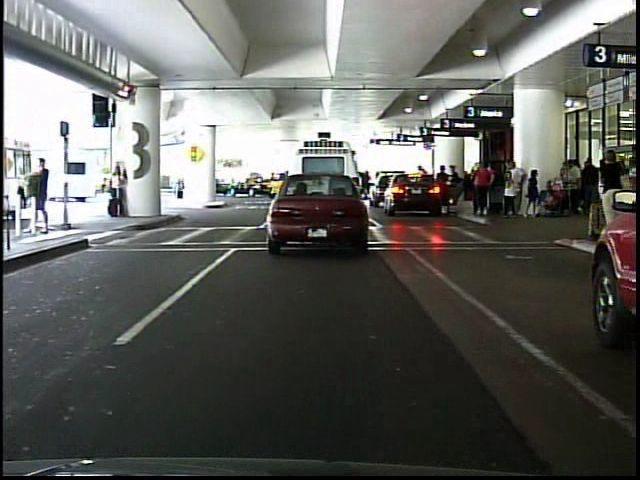person: (591, 145, 628, 240), (28, 150, 54, 237), (107, 160, 130, 219), (165, 160, 192, 203), (474, 161, 493, 219)
